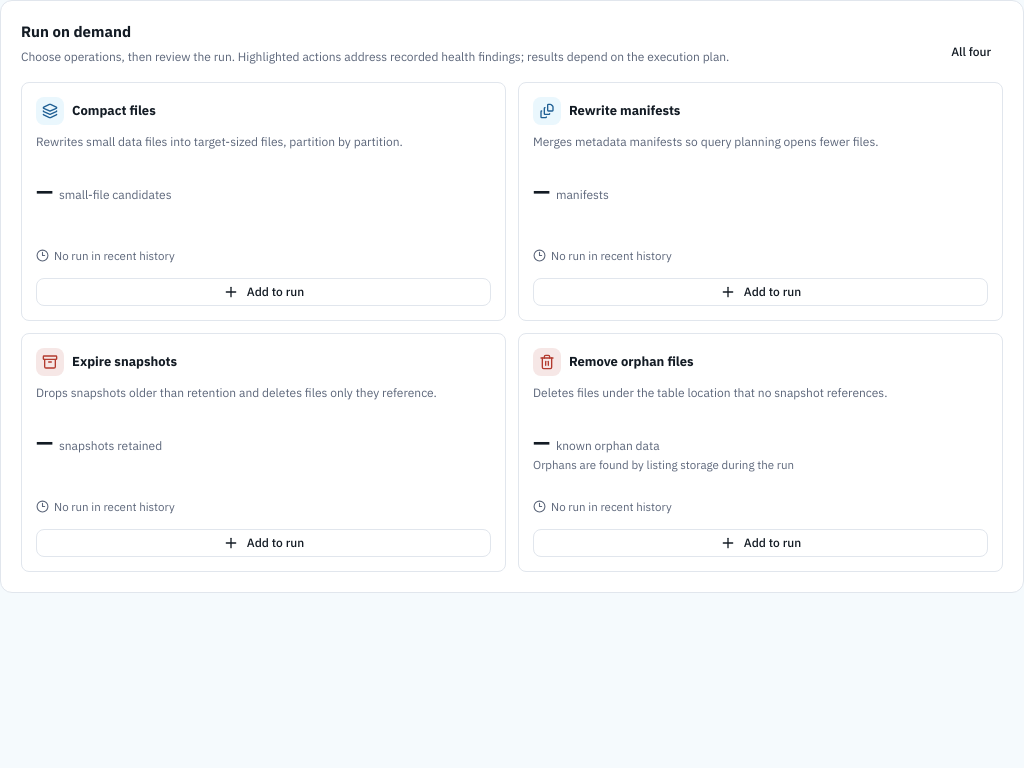
Test: run cart › keeps non-destructive runs free of the delete acknowledgement
What coordinates should you click on to do the following:
click the button "Add to run" below "Rewrite manifests"
I would click on:
 (760, 292)
Its box is x1=533 y1=278 x2=988 y2=306.
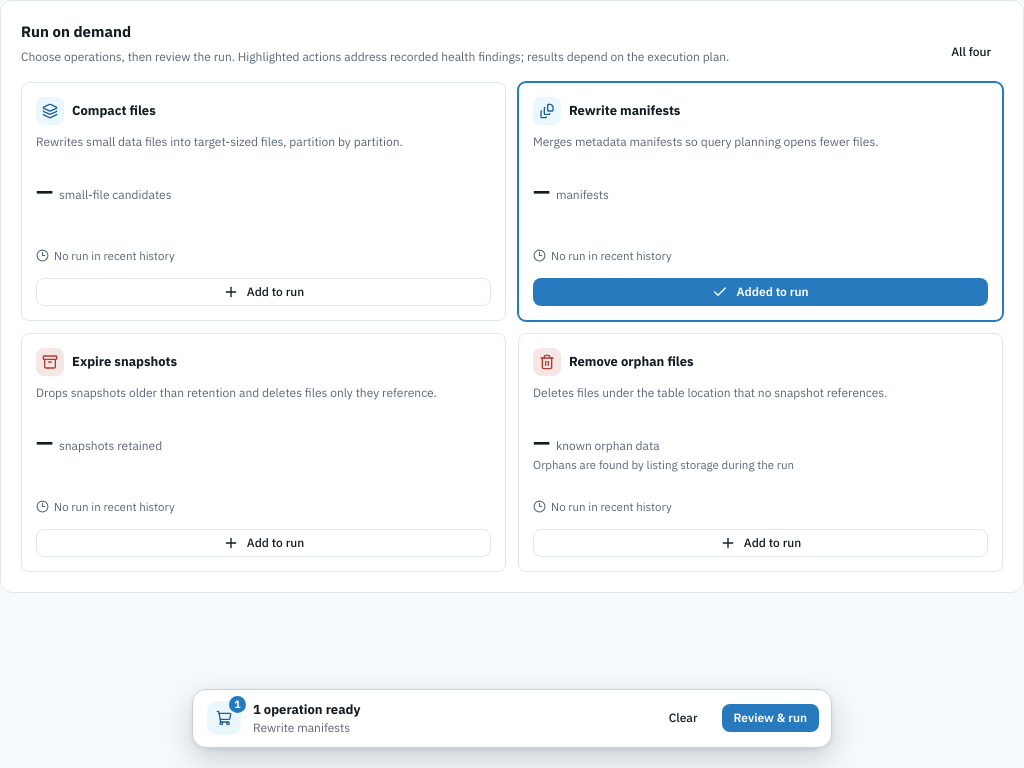
What coordinates should you click on to do the following:
click the button "Review & run"
I would click on:
 (770, 718)
Its box is x1=722 y1=704 x2=819 y2=732.
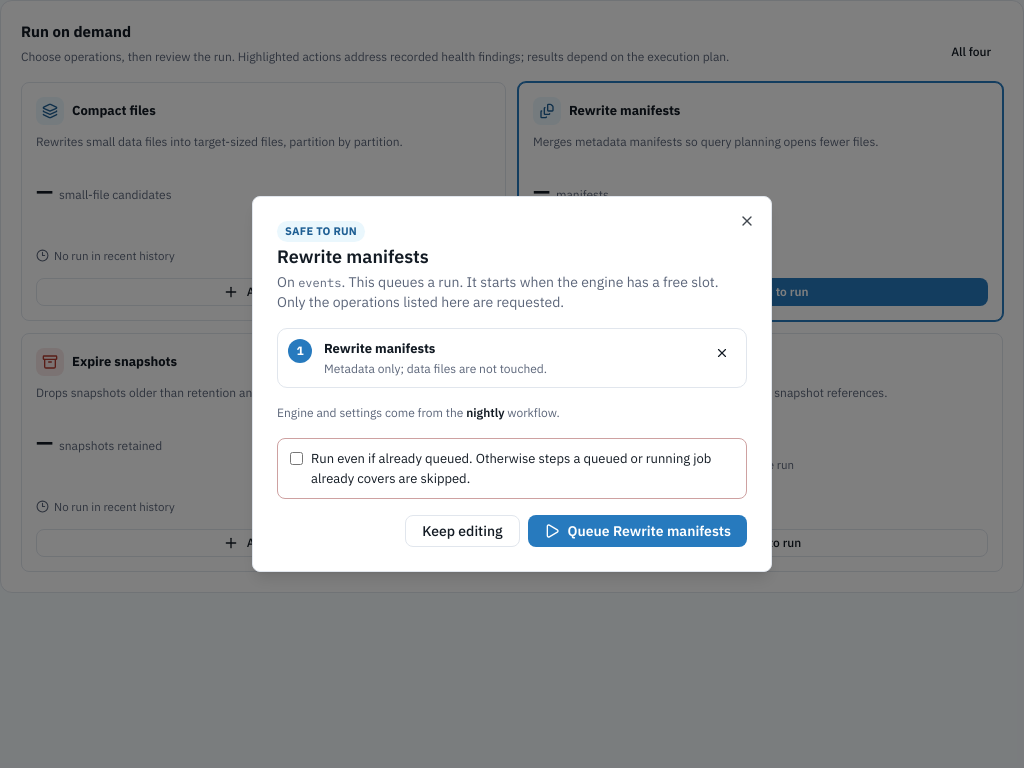
Expected: the button "Queue Rewrite manifests" is enabled, x1=528 y1=515 x2=747 y2=547
